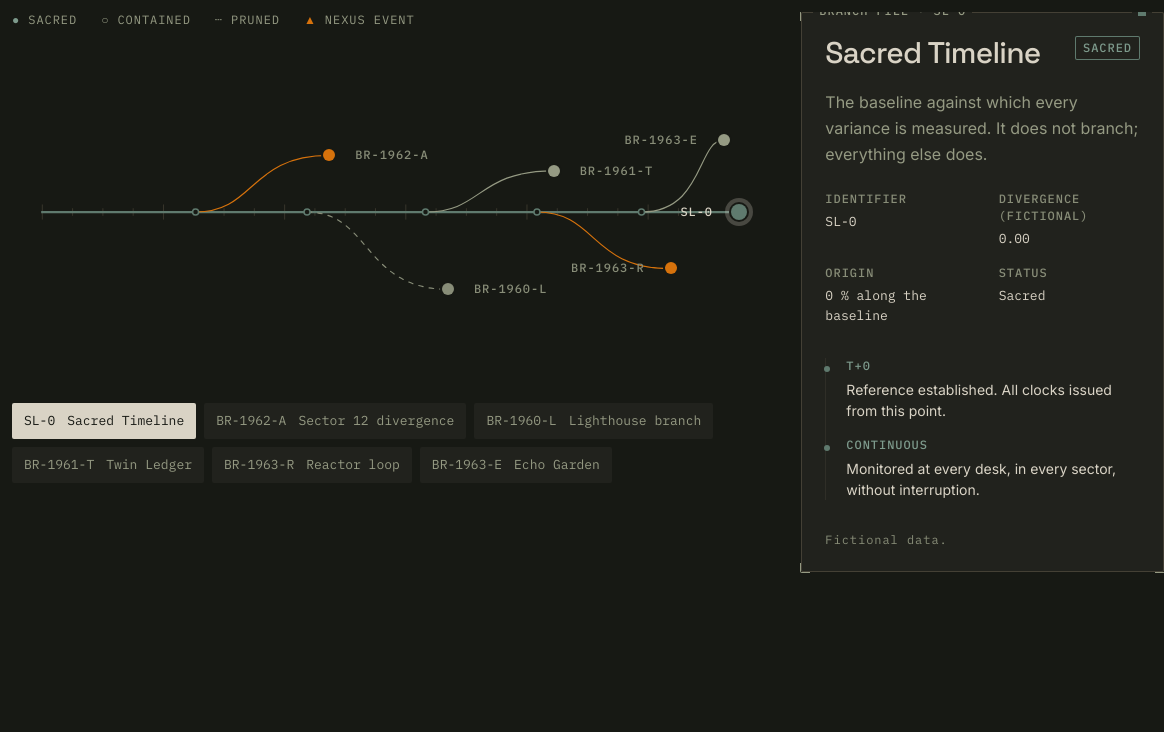
Test case: TimelineExplorer › selects a branch on click and updates the panel
What coordinates should you click on to do the following:
click the tab "BR-1960-L Lighthouse branch"
I would click on:
 (594, 421)
Its box is [474, 403, 713, 439].
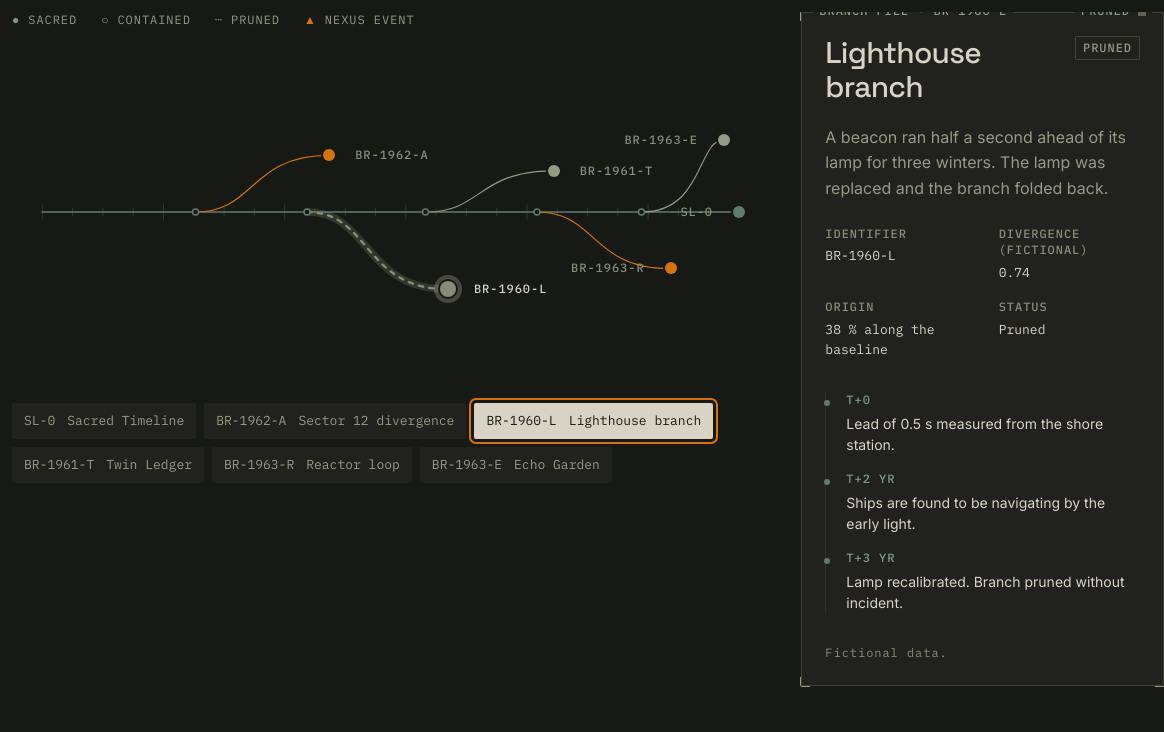
Check: the panel shows "Lighthouse branch", box [825, 34, 981, 106]
Check: the panel shows "0.74", box [999, 264, 1030, 281]
